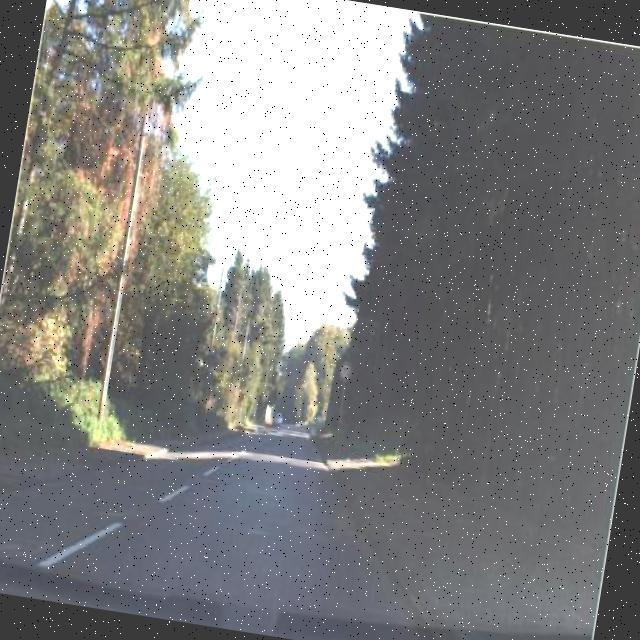Ograniczenie predkosci do 70: (337, 357, 356, 384)
